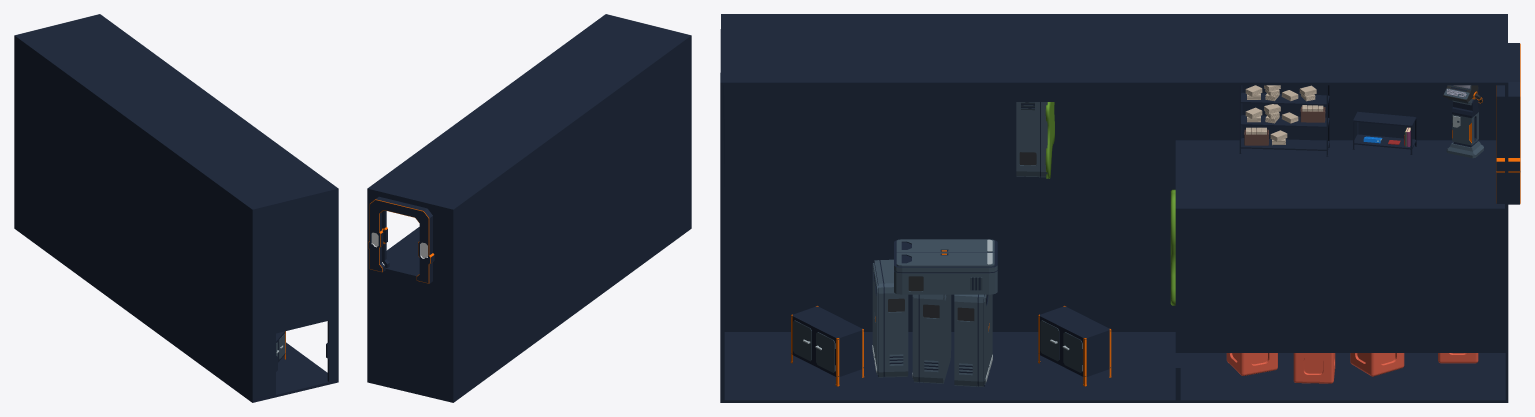
File: Room_13.fbx
The picture shows the model from 3 angles, left to right: view 1: azimuth 30°, elevation 25°; view 2: azimuth 150°, elevation 25°; view 3: azimuth 270°, elevation 25°; orthographic projection. The views are drawn at different scales.
Visible parts, largest first — view 1: Cube.111; view 2: Cube.111, Cube.107; view 3: Cube.111, Cube.189, Cube.172, Cube.141, Cube.174, Cube.178, Cube.173, Cube.107, Cube.435, Cube.190, Cube.019, Cube.436 (+4 smaller).
Part boxes in pixels (left/top/right/bottom): Cube.111: left=14, top=14, right=338, bottom=402; Cube.111: left=367, top=14, right=691, bottom=402; Cube.107: left=368, top=196, right=434, bottom=283; Cube.111: left=720, top=14, right=1508, bottom=402; Cube.189: left=894, top=239, right=997, bottom=294; Cube.172: left=1038, top=306, right=1111, bottom=386; Cube.141: left=790, top=306, right=864, bottom=386; Cube.174: left=872, top=259, right=908, bottom=377; Cube.178: left=954, top=294, right=992, bottom=386; Cube.173: left=912, top=294, right=951, bottom=383; Cube.107: left=1496, top=43, right=1520, bottom=204; Cube.435: left=1239, top=85, right=1329, bottom=156; Cube.190: left=1016, top=102, right=1047, bottom=177; Cube.019: left=1443, top=85, right=1483, bottom=158; Cube.436: left=1352, top=111, right=1416, bottom=154.
Bounding box in the file's own units: 203 × 437 × 990.
Materials: 11 (10 with a texture image).
